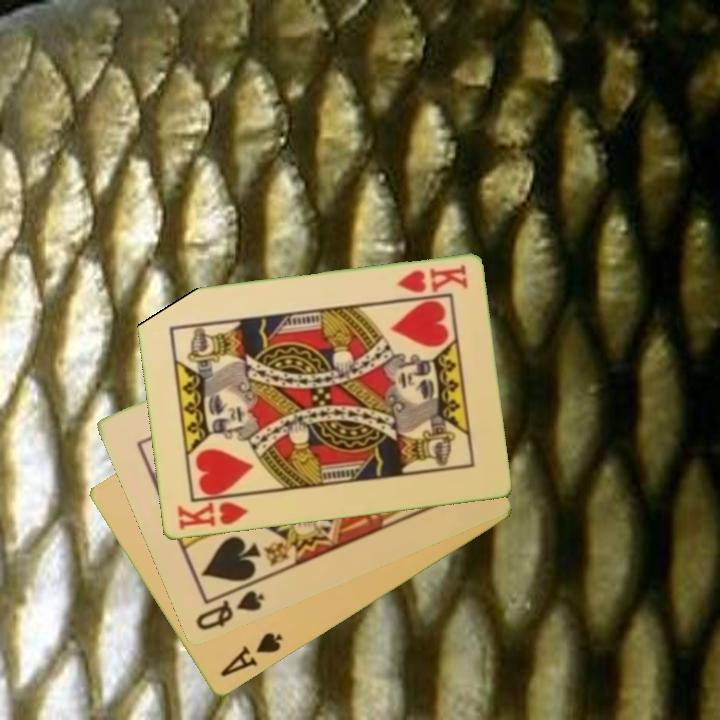As: (216, 629, 285, 681)
Kh: (173, 492, 253, 533), (393, 261, 470, 297)
Qs: (192, 587, 267, 634)
